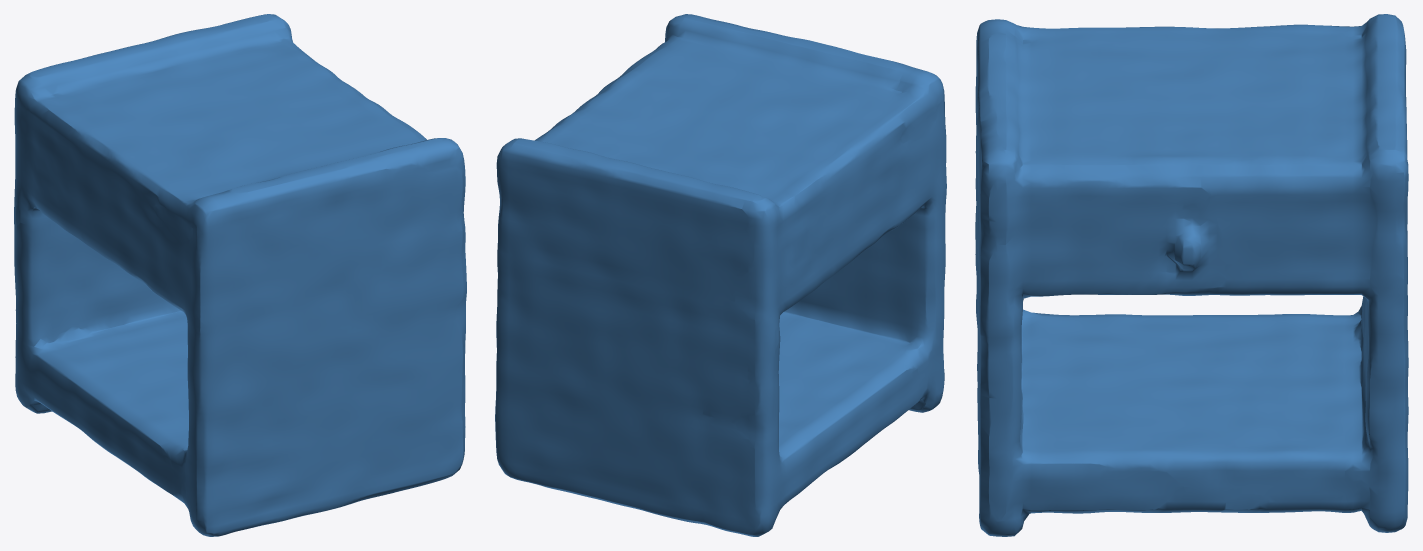
The model's file is nightstand_8_2.obj.
3 views of the same model, side by side, from view 1: azimuth 30°, elevation 25°; view 2: azimuth 150°, elevation 25°; view 3: azimuth 270°, elevation 25° (orthographic). The views are drawn at different scales.
Bounding box in the file's own units: 0.6917 × 0.7917 × 0.7998.
